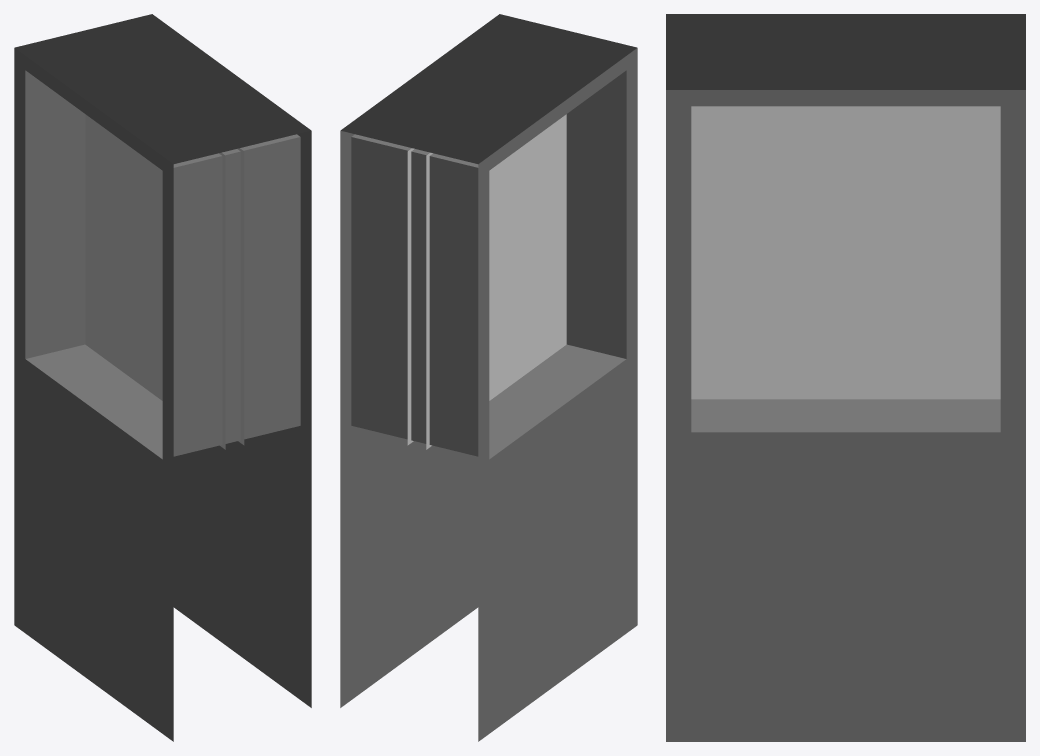
File: Wall_Stone_Window.fbx
3 renders of one model, left to right at view 1: azimuth 30°, elevation 25°; view 2: azimuth 150°, elevation 25°; view 3: azimuth 270°, elevation 25°, orthographic. The views are drawn at different scales.
Visible parts, largest first — view 1: Cube, Cube.001; view 2: Cube, Cube.001; view 3: Cube, Cube.001.
Boxes of the visible parts, left/top/right/bottom form: Cube: left=14, top=14, right=311, bottom=741; Cube.001: left=85, top=114, right=244, bottom=449; Cube: left=340, top=14, right=637, bottom=741; Cube.001: left=407, top=114, right=566, bottom=449; Cube: left=666, top=14, right=1025, bottom=741; Cube.001: left=691, top=106, right=1000, bottom=399.
Bounding box in the file's own units: 100 × 400 × 200.
